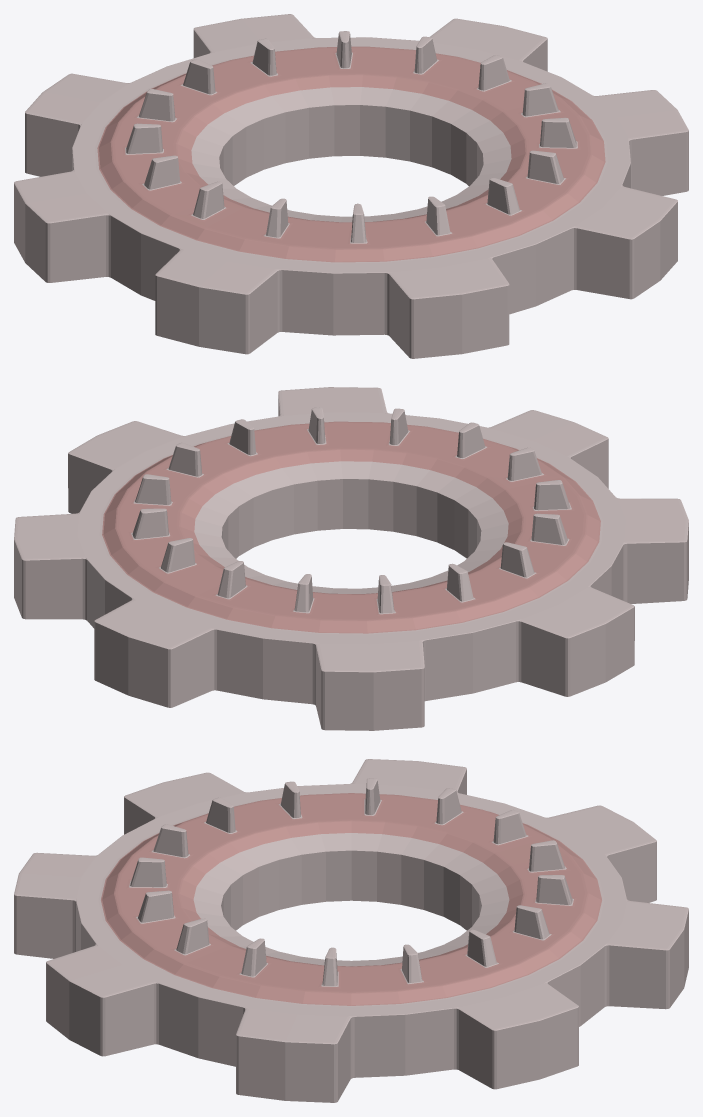
The model's file is zahnrad_gross.glb.
The picture shows the model from 3 angles, top to bottom: view 1: azimuth 30°, elevation 25°; view 2: azimuth 150°, elevation 25°; view 3: azimuth 270°, elevation 25°; orthographic projection.
Parts seen in each view (by area): view 1: Zahnrad.002; view 2: Zahnrad.002; view 3: Zahnrad.002.
Boxes of the visible parts, box(x1,y1,x2,y2) form: Zahnrad.002: box(14, 14, 688, 358); Zahnrad.002: box(14, 387, 688, 730); Zahnrad.002: box(14, 759, 688, 1102).
Bounding box in the file's own units: 4.21 × 0.6453 × 4.21.
